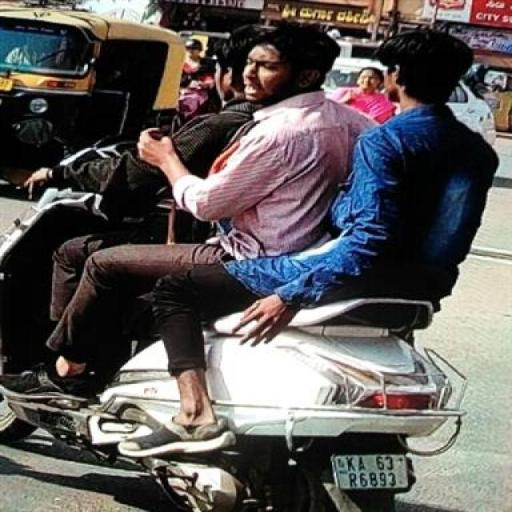tripple riding: (19, 16, 503, 287)
